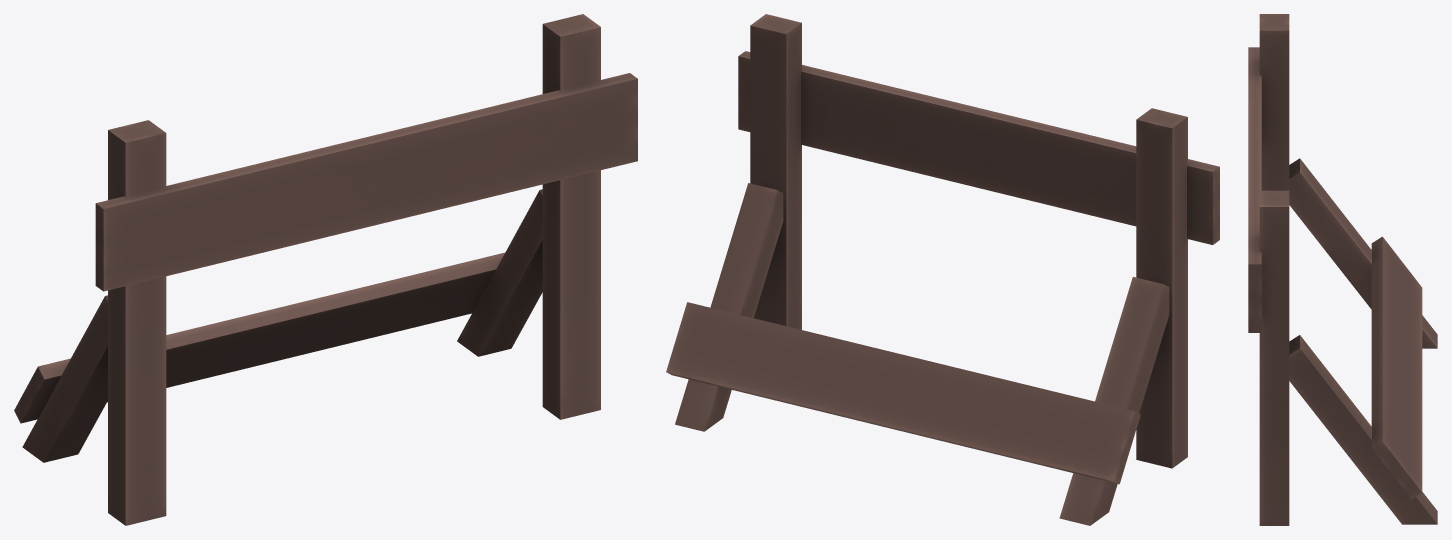
Rendered from RailsObject_1.fbx.
The picture shows the model from 3 angles, left to right: view 1: azimuth 30°, elevation 25°; view 2: azimuth 150°, elevation 25°; view 3: azimuth 270°, elevation 25°; orthographic projection. The views are drawn at different scales.
Parts seen in each view (by area): view 1: RailsObject_1; view 2: RailsObject_1; view 3: RailsObject_1.
Part boxes in pixels (<box>): RailsObject_1: <box>14,14,637,525</box>; RailsObject_1: <box>666,14,1219,525</box>; RailsObject_1: <box>1248,14,1437,525</box>.
Bounding box in the file's own units: 59.83 × 41.01 × 22.04.
